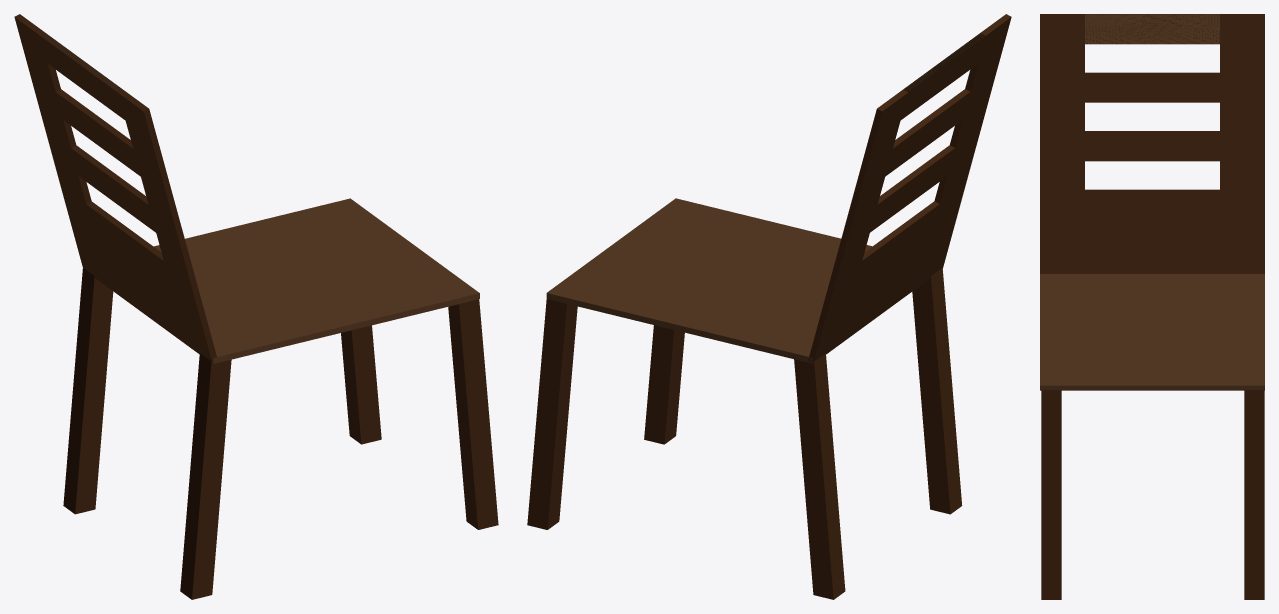
File: Chair.fbx
The picture shows the model from 3 angles, left to right: view 1: azimuth 30°, elevation 25°; view 2: azimuth 150°, elevation 25°; view 3: azimuth 270°, elevation 25°; orthographic projection. The views are drawn at different scales.
Visible parts, largest first — view 1: Cube; view 2: Cube; view 3: Cube.
Boxes of the visible parts, left/top/right/bottom form: Cube: left=14, top=14, right=498, bottom=599; Cube: left=527, top=14, right=1011, bottom=599; Cube: left=1040, top=14, right=1264, bottom=599.
Bounding box in the file's own units: 193 × 261 × 122.
